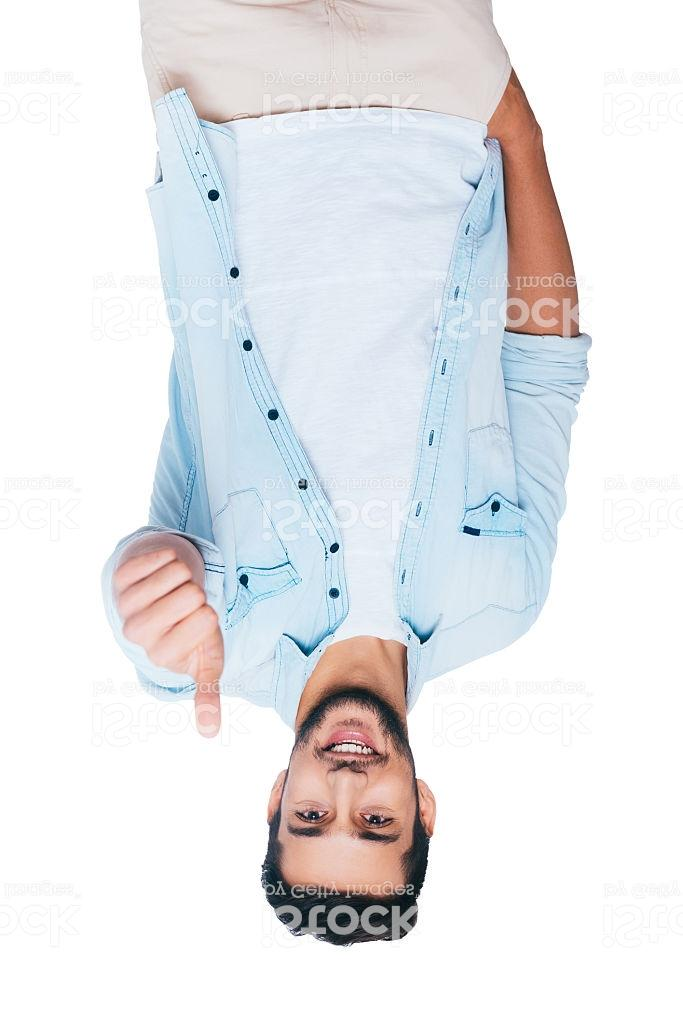thumbsdown: (109, 542, 224, 740)
